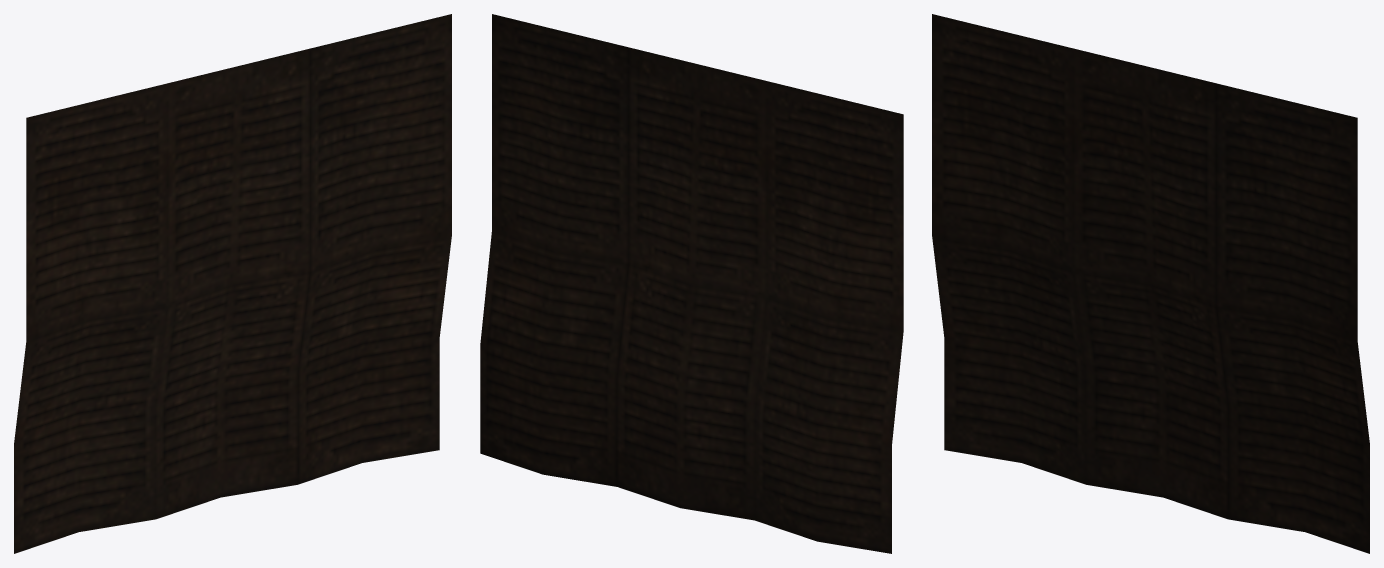
Rendered from wall_6.obj.
3 renders of one model, left to right at view 1: azimuth 30°, elevation 25°; view 2: azimuth 150°, elevation 25°; view 3: azimuth 330°, elevation 25°, orthographic. The views are drawn at different scales.
Parts seen in each view (by area): view 1: wall_6; view 2: wall_6; view 3: wall_6.
Boxes of the visible parts, x1=… form: wall_6: x1=14, y1=14, x2=451, y2=553; wall_6: x1=480, y1=14, x2=903, y2=553; wall_6: x1=932, y1=14, x2=1369, y2=553.
Bounding box in the file's own units: 2 × 2 × 0.15.
